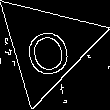O_N: (19, 15, 75, 76)
